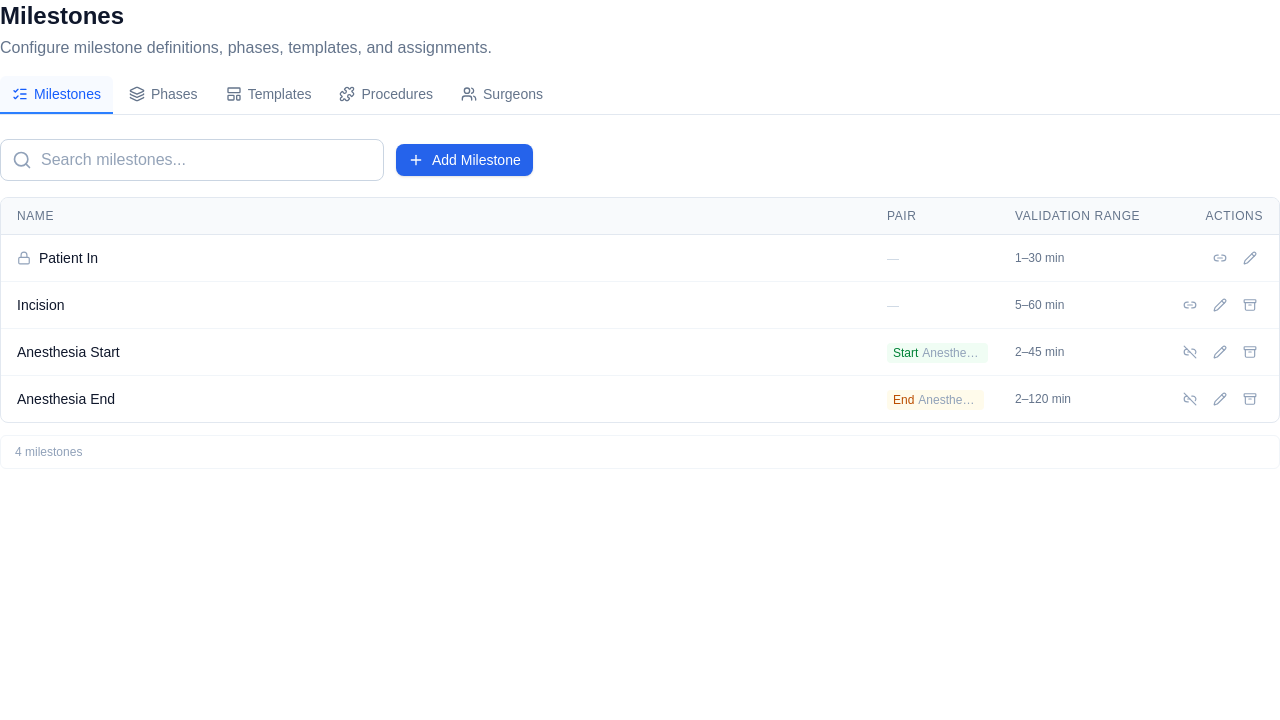
Test case: MilestonesSettingsPage › Milestones tab - actions › opens edit modal when edit button clicked
Click the button titled "Edit" in the row of "1–30 min": click(1250, 258) [1237,245,1263,271]
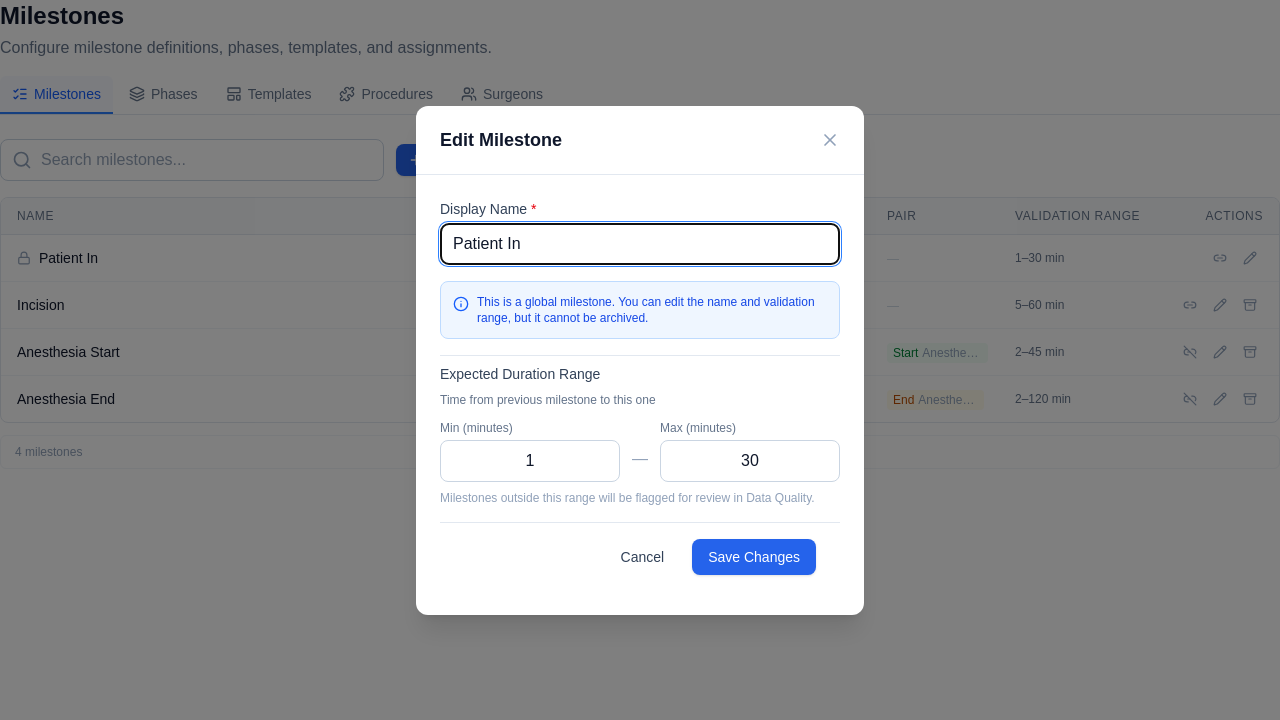
Now the heading "Edit Milestone" is shown, box [440,126,562,154]
Now the field showing "Patient In" is shown, box [440,222,840,264]
